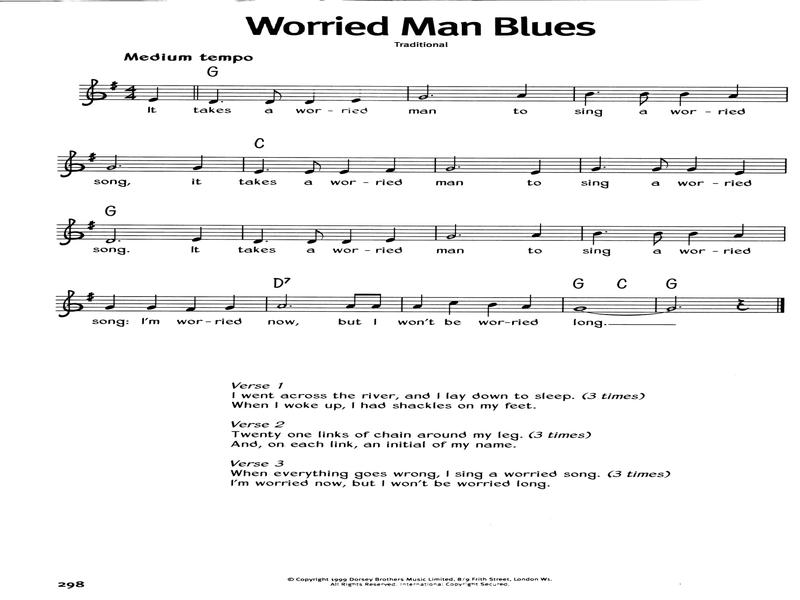B: (102, 224, 119, 245), (274, 292, 289, 311), (665, 294, 679, 314), (418, 80, 431, 101), (104, 153, 118, 172), (446, 150, 456, 175), (446, 223, 458, 241)
C: (303, 225, 325, 245), (649, 155, 673, 173), (303, 157, 324, 176), (263, 88, 285, 105), (635, 86, 652, 107), (649, 226, 667, 245), (346, 292, 360, 311), (369, 291, 382, 311)
CS: (75, 72, 108, 113), (55, 212, 87, 252), (55, 147, 87, 181), (55, 287, 85, 323)
N: (104, 285, 122, 311), (189, 221, 209, 244), (220, 292, 241, 312), (339, 224, 358, 246), (382, 221, 400, 244), (527, 218, 545, 239), (685, 153, 702, 174), (725, 79, 741, 101), (144, 292, 161, 312), (731, 222, 748, 242), (734, 154, 748, 178), (184, 294, 200, 314), (413, 291, 429, 311), (515, 79, 530, 100), (683, 229, 701, 246), (529, 156, 545, 175), (518, 294, 535, 311), (148, 85, 164, 103), (191, 151, 206, 170), (445, 297, 459, 316), (338, 157, 352, 176), (385, 154, 398, 174), (252, 226, 265, 244), (485, 299, 498, 317), (591, 153, 602, 174), (305, 89, 318, 106), (351, 87, 364, 104), (582, 89, 595, 106), (677, 88, 688, 107), (207, 88, 220, 104), (588, 231, 601, 245), (254, 161, 266, 175)
P: (458, 164, 464, 171), (288, 303, 295, 309), (458, 231, 464, 236), (221, 100, 227, 104), (117, 240, 123, 244), (118, 164, 124, 167), (431, 95, 435, 98)
R: (572, 301, 586, 314)
SOS: (84, 290, 96, 305), (89, 152, 98, 164), (111, 79, 118, 91), (89, 220, 96, 231)
